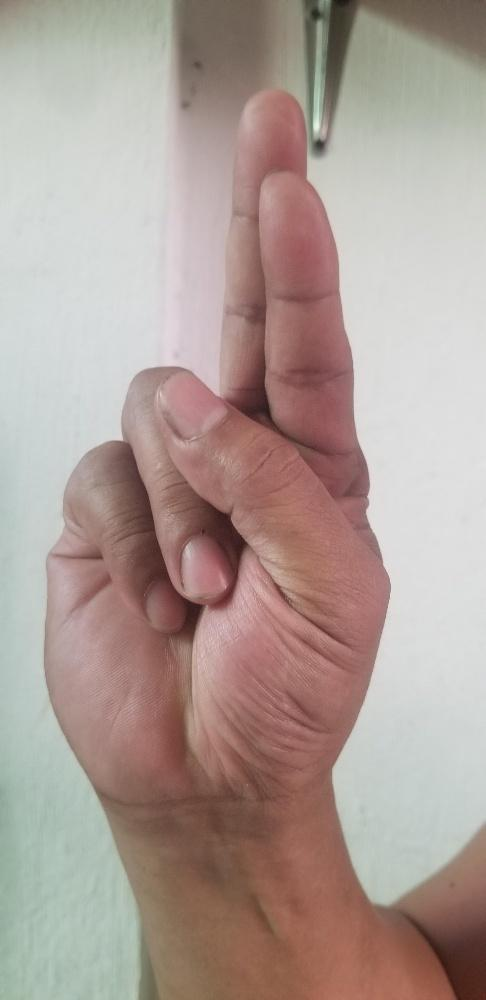r: (37, 85, 393, 800)
